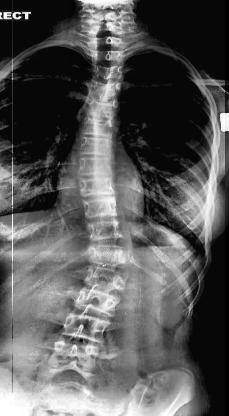Vertebrae: (60, 311, 112, 345), (50, 340, 100, 372), (74, 288, 120, 316), (84, 218, 130, 244), (86, 265, 130, 292), (88, 243, 134, 267), (80, 196, 124, 219), (79, 116, 117, 138), (76, 137, 116, 157), (77, 178, 117, 198), (83, 97, 121, 117), (76, 158, 114, 178), (87, 81, 123, 99), (86, 20, 126, 36), (92, 64, 126, 82), (88, 35, 126, 50), (90, 51, 126, 66)
